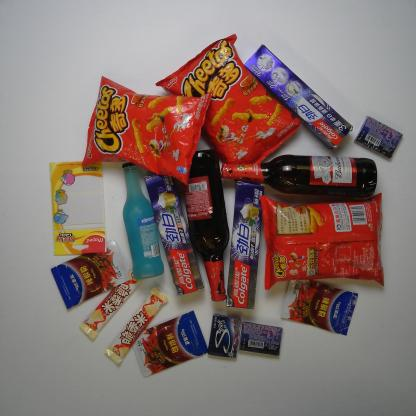Alcohol: (177, 146, 229, 305), (216, 151, 380, 201), (121, 160, 166, 280)
Chocolate: (76, 264, 146, 342), (104, 286, 170, 365)
Gum: (352, 114, 405, 161), (206, 312, 244, 360), (237, 321, 285, 356)
Personal Hygiene: (242, 42, 355, 153), (141, 172, 206, 297), (222, 176, 266, 311)
Puffed Food: (154, 31, 302, 173), (79, 75, 214, 190), (255, 192, 390, 292)
Seasoner: (49, 238, 133, 311), (130, 310, 208, 380), (278, 276, 360, 339)
Stationery: (48, 158, 109, 256)
